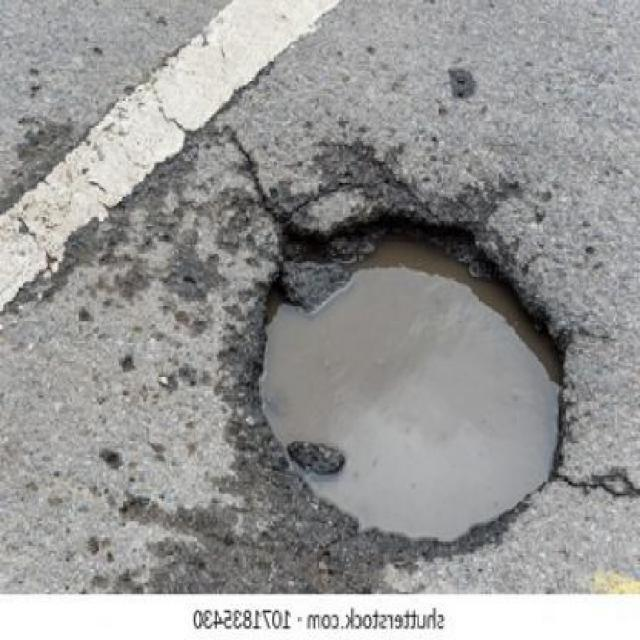pothole: (256, 192, 575, 549)
